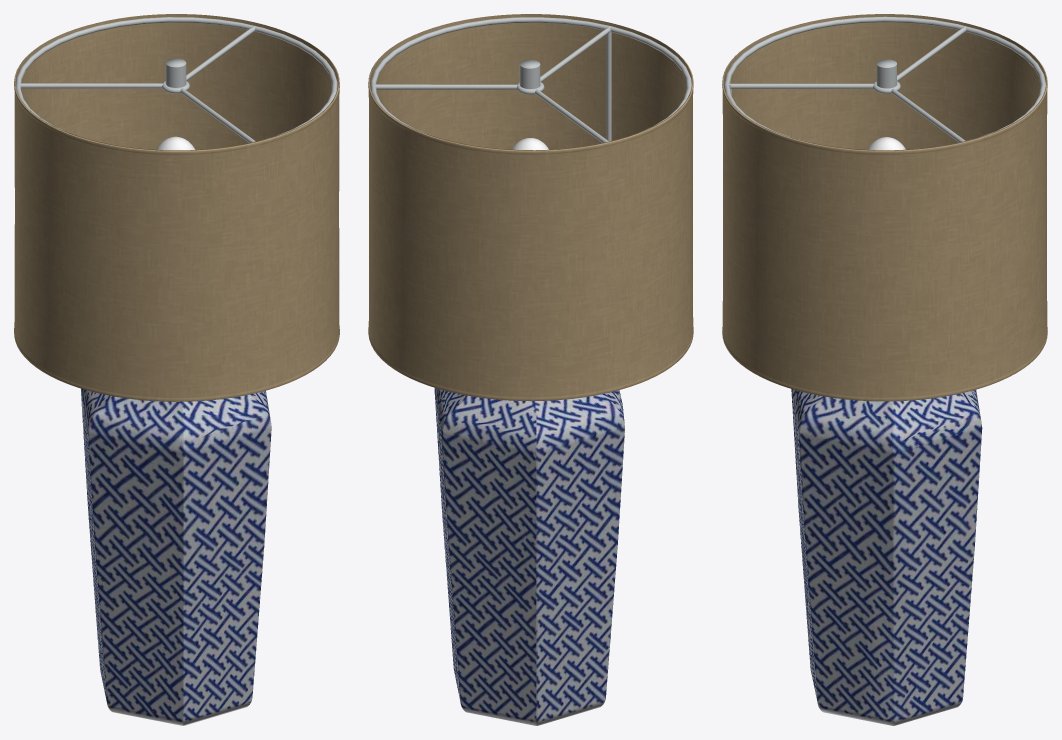
The picture shows the model from 3 angles, left to right: view 1: azimuth 30°, elevation 25°; view 2: azimuth 150°, elevation 25°; view 3: azimuth 270°, elevation 25°; orthographic projection.
Visible parts, largest first — view 1: RootNode; view 2: RootNode; view 3: RootNode.
Boxes of the visible parts, <box> form: RootNode: <box>14,14,339,725</box>; RootNode: <box>368,14,693,725</box>; RootNode: <box>722,14,1047,725</box>.
Bounding box in the file's own units: 0.3199 × 0.682 × 0.3199.
Materials: 1 (1 with a texture image).
